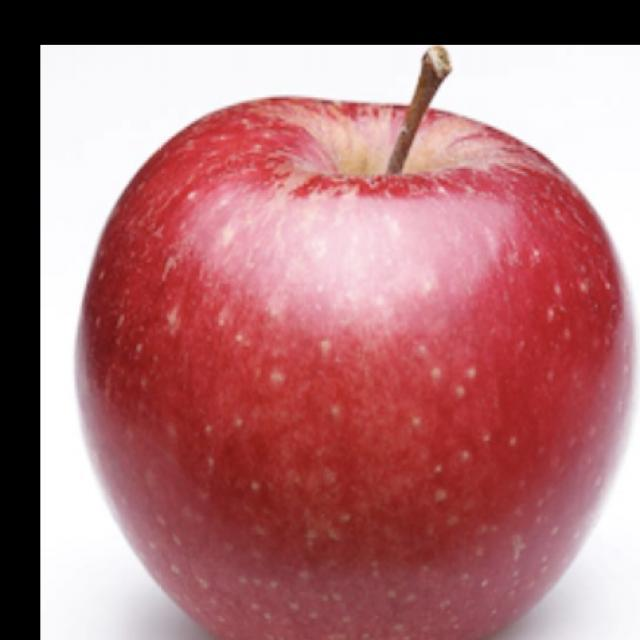Fresh Apple: (76, 42, 640, 640)
